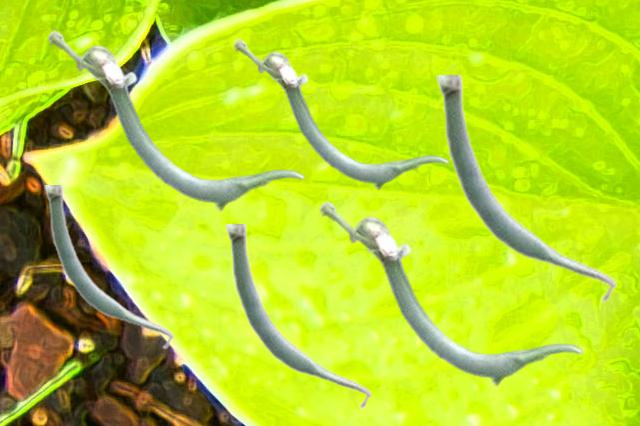french_bean: (319, 200, 582, 385), (47, 29, 304, 210), (436, 75, 616, 303), (233, 38, 448, 189), (225, 224, 371, 409), (44, 185, 173, 349)
